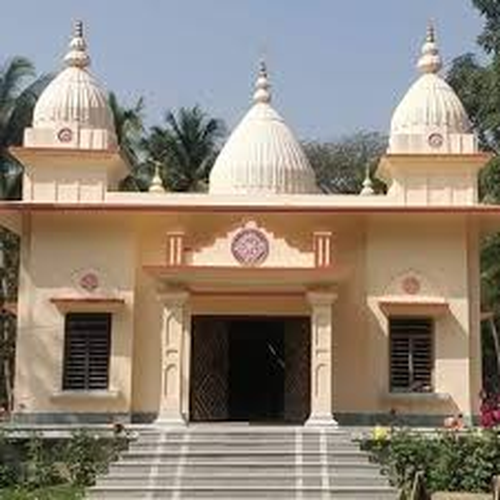Temple: (8, 16, 487, 443)
